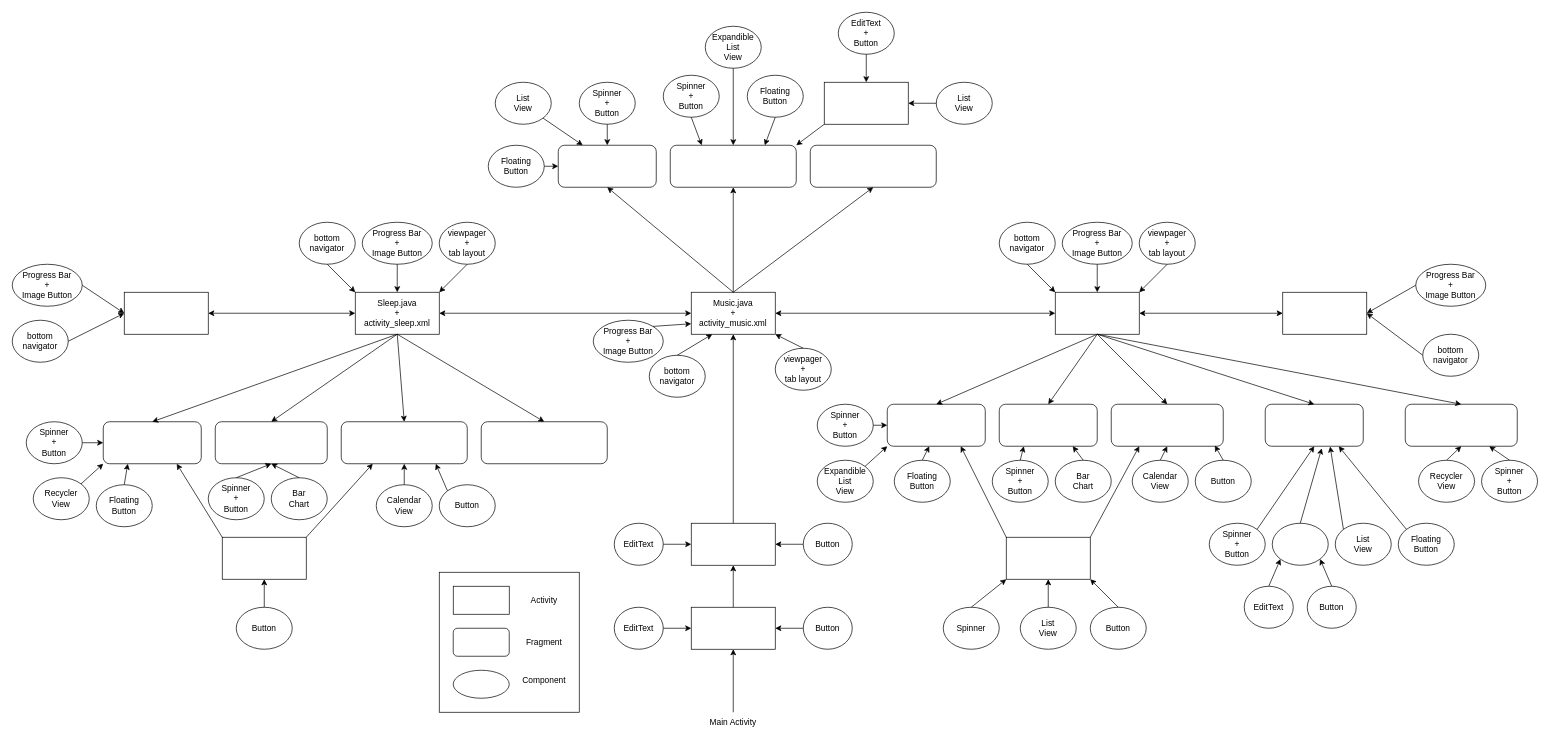
The diagram is 1550 pixels wide and 746 high, and some of its shapes have lost their labels. The centre of each missing label's shape, as x and y in pixels:
Acount.java + activity_account.xml: (x=733, y=544)
Custom Dialog: (x=1300, y=544)
DataMusic.java + data_music.xml: (x=866, y=103)
DataSleep.java + data_sleep.xml: (x=264, y=558)
DataSports.java + data_sports.xml: (x=1048, y=558)
Info.java + activity_info.xml: (x=166, y=313)
Login.java + activity_login.xml: (x=733, y=628)
MusicList.java + fragment_music_list.xml: (x=607, y=166)
MusicPlaylists.java + fragment_music_statistics.xml: (x=733, y=166)
MusicStatistics.java + fragment_music_statistics.xml: (x=873, y=166)
Save.java + activity_save.xml: (x=1324, y=313)
SleepCalendar.java + fragment_sleep_calendar.xml: (x=404, y=442)
SleepChart.java + fragment_sleep_chart.xml: (x=271, y=442)
SleepList.java + fragment_sleep_list.xml: (x=152, y=442)
SleepStatistics.java + fragment_sleep_statistics.xml: (x=544, y=442)
Sport.java + activity_sport.xml: (x=1097, y=313)
SportCalendar.java + fragment_sport_calendar.xml: (x=1167, y=425)
SportChart.java + fragment_sport_chart.xml: (x=1048, y=425)
SportList.java + fragment_sport_list.xml: (x=936, y=425)
SportStatistics.java + fragment_sport_statistics.xml: (x=1461, y=425)
SportType.java + fragment_sport_type.xml: (x=1314, y=425)
